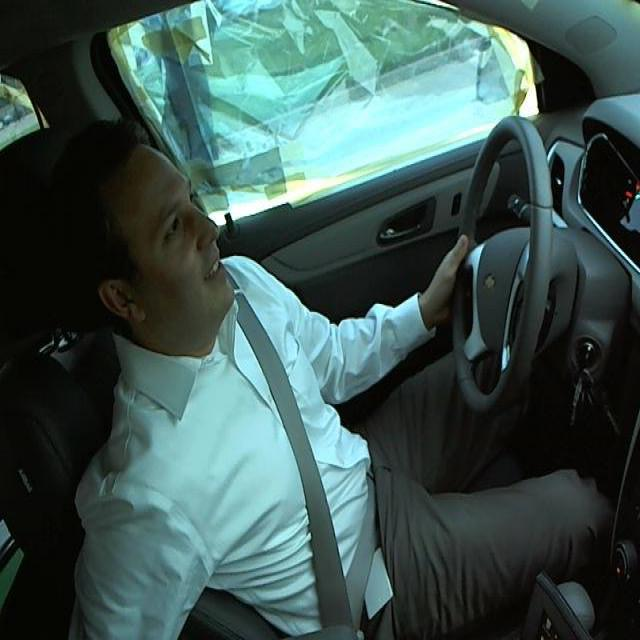seatbelt: (230, 291, 387, 638)
